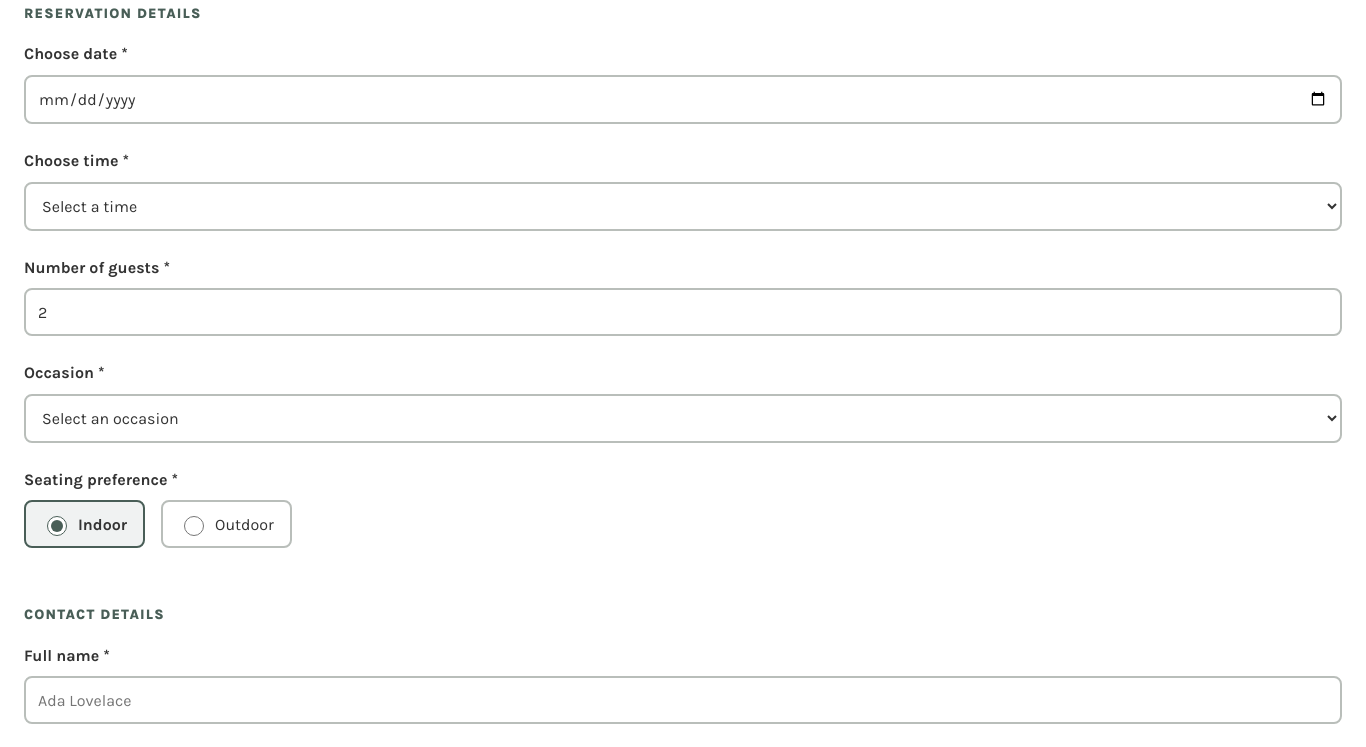
Test case: BookingForm validation › clears the error as soon as the value is corrected
This screenshot has width=1366, height=747.
Type "A" into the field labelled "Full name *". click: [683, 700]
box: [24,676,1342,724]
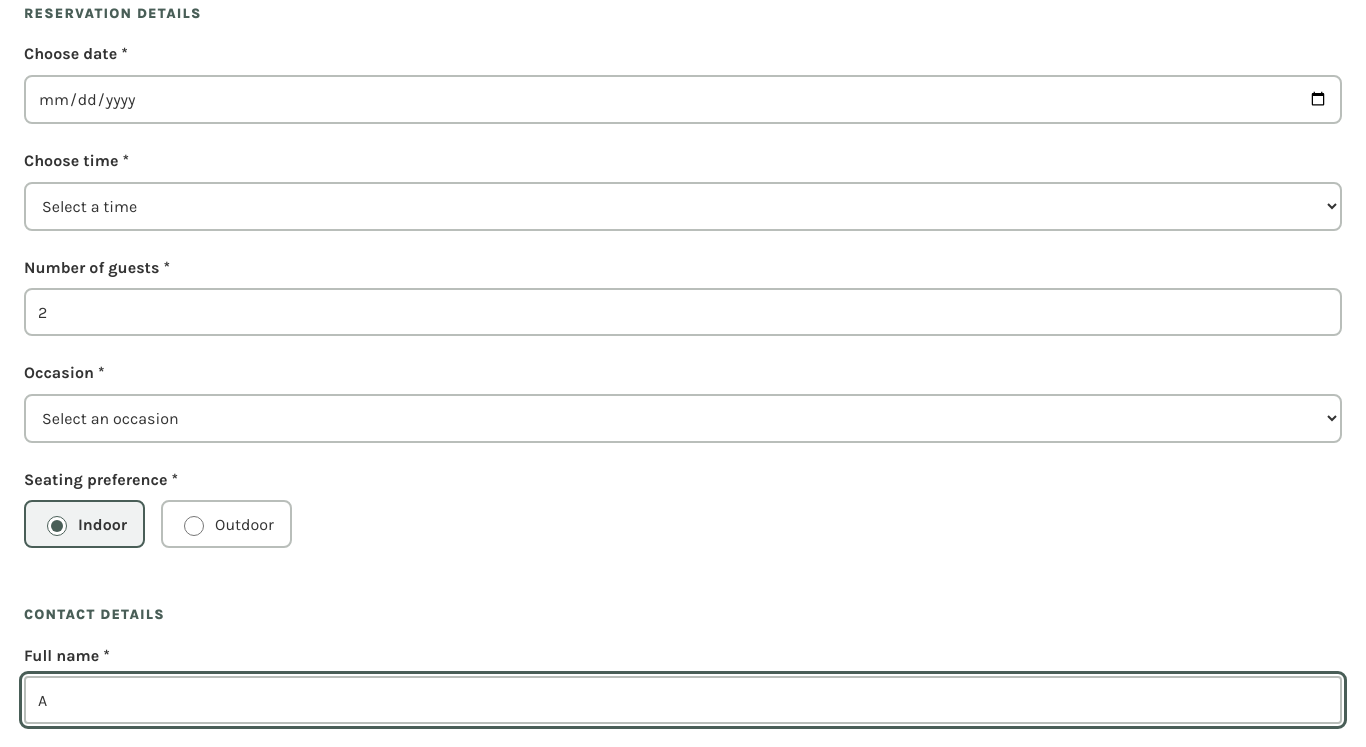
Press Tab
(page scrolled)
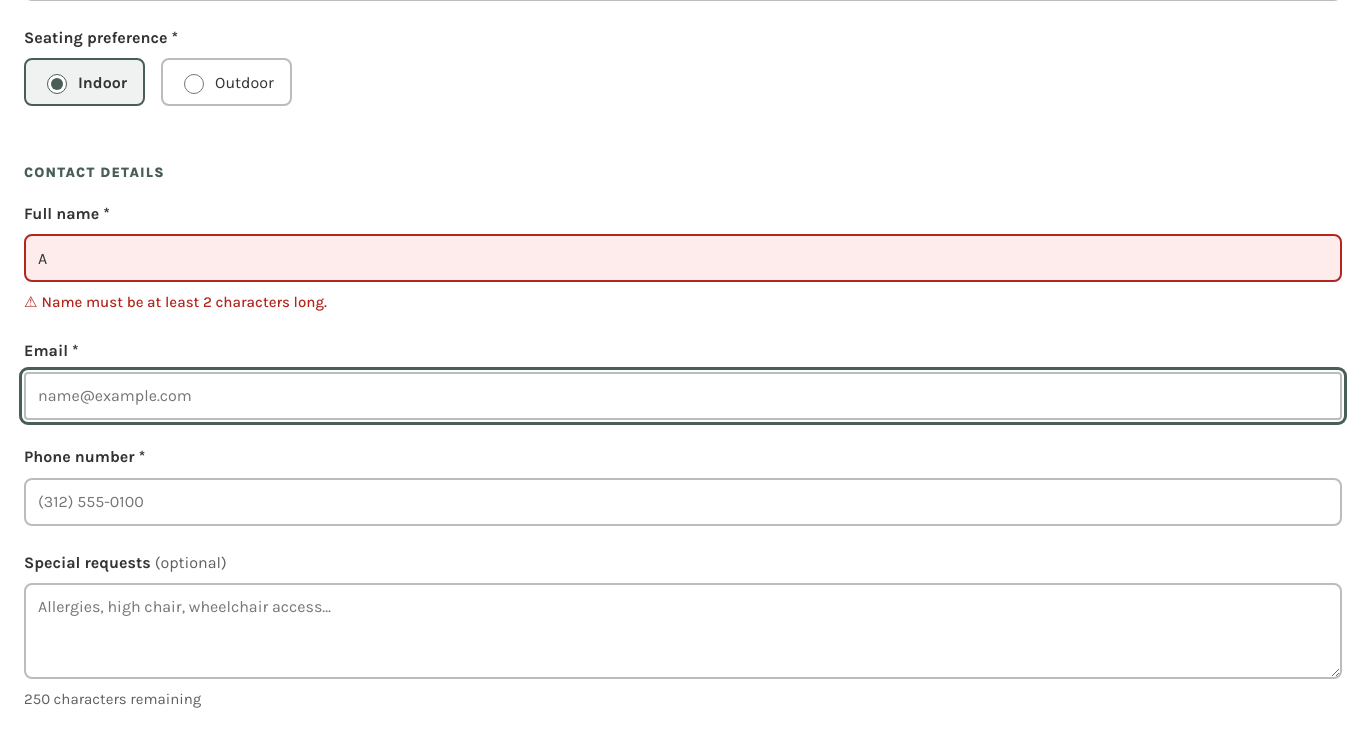
Check: the text "⚠ Name must be at least 2 characters long." is shown, box [24,293,327,311]
Type "da Lovelace" into the field labelled "Full name *". click: [683, 258]
box: [24,234,1342,282]
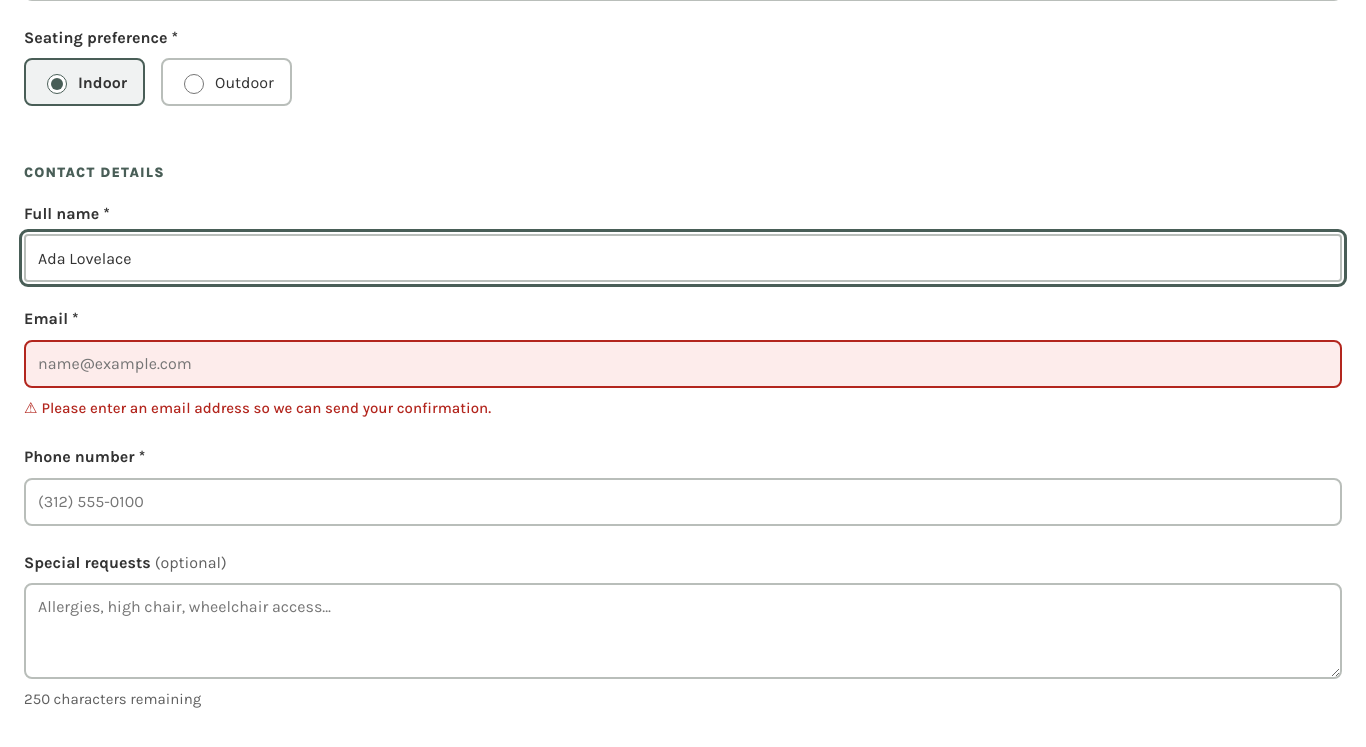
Check: the text "at least 2 characters" is gone
